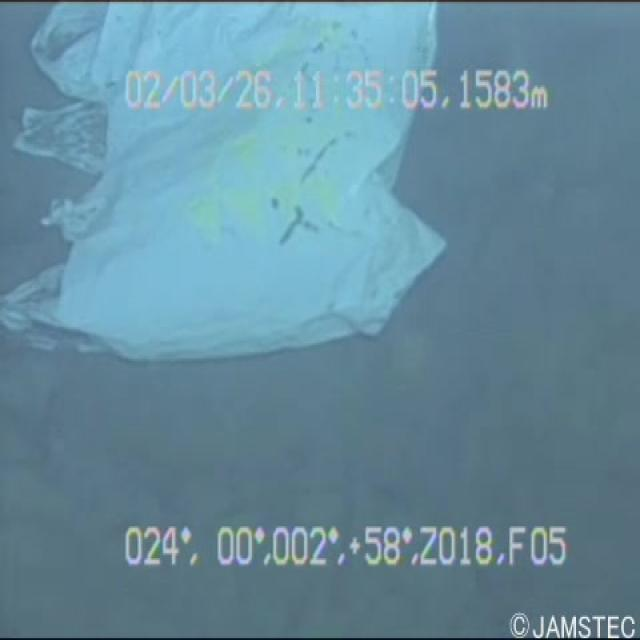plastic: (3, 0, 464, 366)
